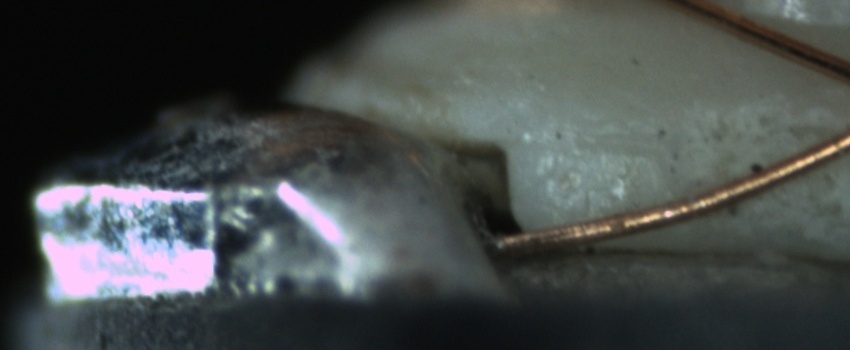DL: (521, 112, 674, 175)
